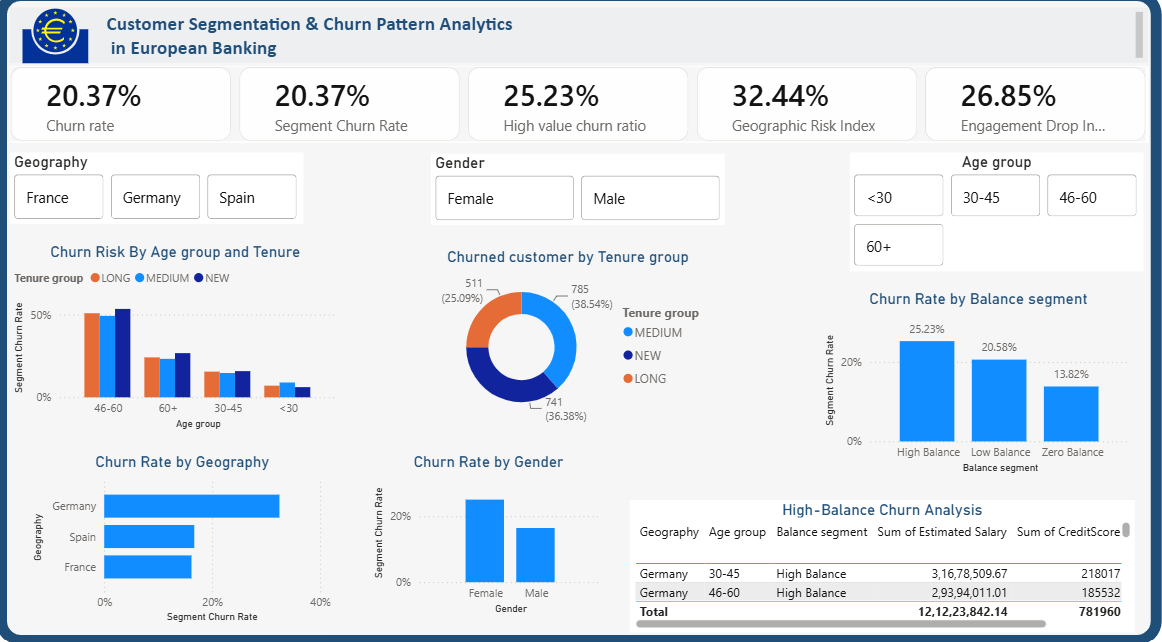

Layout of this report page (visuals, bound fields, positions):
{"tool":"powerbi","page":{"name":"Page 2","canvas":[1280,720],"ordinal":0},"visuals":[{"type":"shape","box":[0,0,1279.7,719.9],"z":0},{"type":"textbox","box":[15.2,18.5,1249.3,60.7],"z":1000},{"type":"image","box":[28.7,11.8,72.5,72.5],"z":2000},{"type":"cardVisual","fields":{"Data":["Sheet1.Churn rate","Sheet1.Segment Churn Rate","Sheet1.High value churn ratio","Sheet1.Geographic Risk Index","Sheet1.Engagement Drop Indicator"]},"box":[15.1,83.7,1250.1,83.7],"z":3000},{"type":"advancedSlicerVisual","fields":{"Values":["Sheet1.Geography"]},"box":[15.1,178.4,322.5,78.2],"z":4000},{"type":"advancedSlicerVisual","fields":{"Values":["Sheet1.Gender"]},"box":[477.5,179.8,322.5,78.2],"z":5000},{"type":"advancedSlicerVisual","fields":{"Values":["Sheet1.Age group"]},"box":[937.2,178.4,322.5,130.4],"z":6000},{"type":"donutChart","fields":{"Category":["Sheet1.Tenure group"],"Y":["Sheet1.Churned customer"]},"box":[454.2,277.2,345.8,209.9],"z":7000},{"type":"clusteredColumnChart","title":"Churn Rate by Balance segment","fields":{"Category":["Sheet1.Balance segment"],"Y":["Sheet1.Segment Churn Rate"]},"box":[896.1,319.7,363.6,225],"z":8000},{"type":"clusteredBarChart","title":" Churn Rate by Geography","fields":{"Category":["Sheet1.Geography"],"Y":["Sheet1.Segment Churn Rate"]},"box":[28.8,502.2,349.9,203.1],"z":9000},{"type":"clusteredColumnChart","title":"Churn Risk By Age group and Tenure","fields":{"Category":["Sheet1.Age group"],"Y":["Sheet1.Segment Churn Rate"],"Series":["Sheet1.Tenure group"]},"box":[15.1,277.2,363.6,209.9],"z":10000},{"type":"tableEx","title":"High-Balance Churn Analysis","fields":{"Values":["Sheet1.Geography","Sheet1.Age group","Sheet1.Balance segment","Sum(Sheet1.Estimated Salary)","Sum(Sheet1.CreditScore)","Sum(Sheet1.Tenure)"]},"box":[695.7,559.9,554.4,145.5],"z":11000},{"type":"clusteredColumnChart","title":"Churn Rate by Gender","fields":{"Category":["Sheet1.Gender"],"Y":["Sheet1.Segment Churn Rate"]},"box":[403.4,502.2,273.1,193.5],"z":12000}]}

Visuals, with their boxes in screenshot pixels (x1, y1, x2, y2), scaled from the page's 1280x720 canvas onto the 1162x642 screenshot:
shape: box=[0, 0, 1161, 641]
textbox: box=[14, 16, 1148, 71]
image: box=[26, 11, 92, 75]
cardVisual - Sheet1.Churn rate x Sheet1.Segment Churn Rate: box=[14, 75, 1149, 149]
advancedSlicerVisual - Sheet1.Geography: box=[14, 159, 306, 229]
advancedSlicerVisual - Sheet1.Gender: box=[433, 160, 726, 230]
advancedSlicerVisual - Sheet1.Age group: box=[851, 159, 1144, 275]
donutChart - Sheet1.Tenure group x Sheet1.Churned customer: box=[412, 247, 726, 434]
"Churn Rate by Balance segment" clusteredColumnChart: box=[813, 285, 1144, 486]
" Churn Rate by Geography" clusteredBarChart: box=[26, 448, 344, 629]
"Churn Risk By Age group and Tenure" clusteredColumnChart: box=[14, 247, 344, 434]
"High-Balance Churn Analysis" tableEx: box=[632, 499, 1135, 629]
"Churn Rate by Gender" clusteredColumnChart: box=[366, 448, 614, 620]
